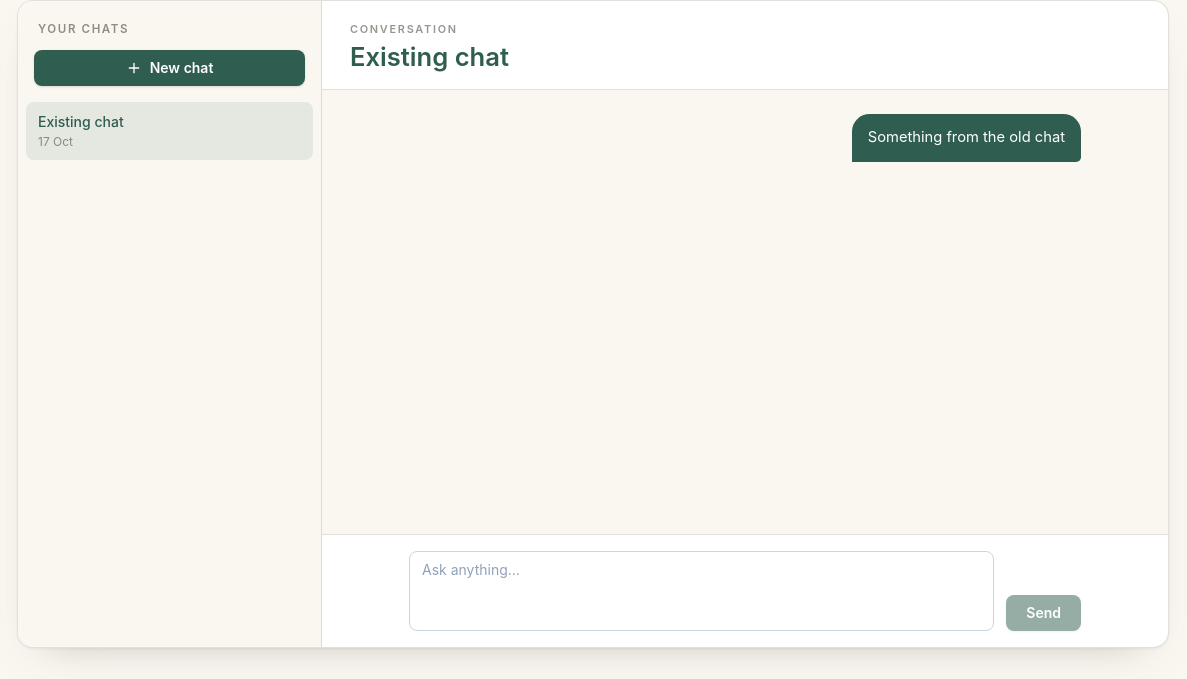
Test: Chat screen › New chat opens an empty thread, shows none of another conversation's messages, and focuses the composer
Check: the text "Something from the old chat" is shown, box [852,114,1081,162]
Click the button "New chat" at [170, 68], box [34,50,305,86]
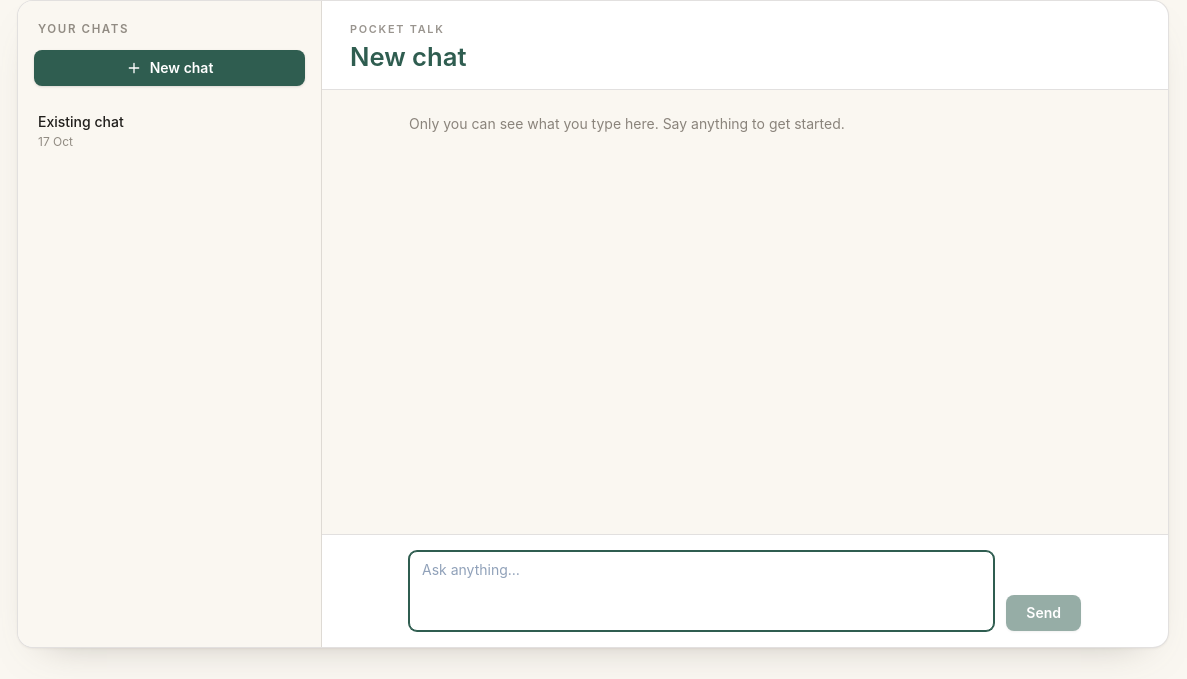
Check: the text "Something from the old chat" is gone
Check: the text "Say anything to get started" is shown, box [409,115,845,132]
